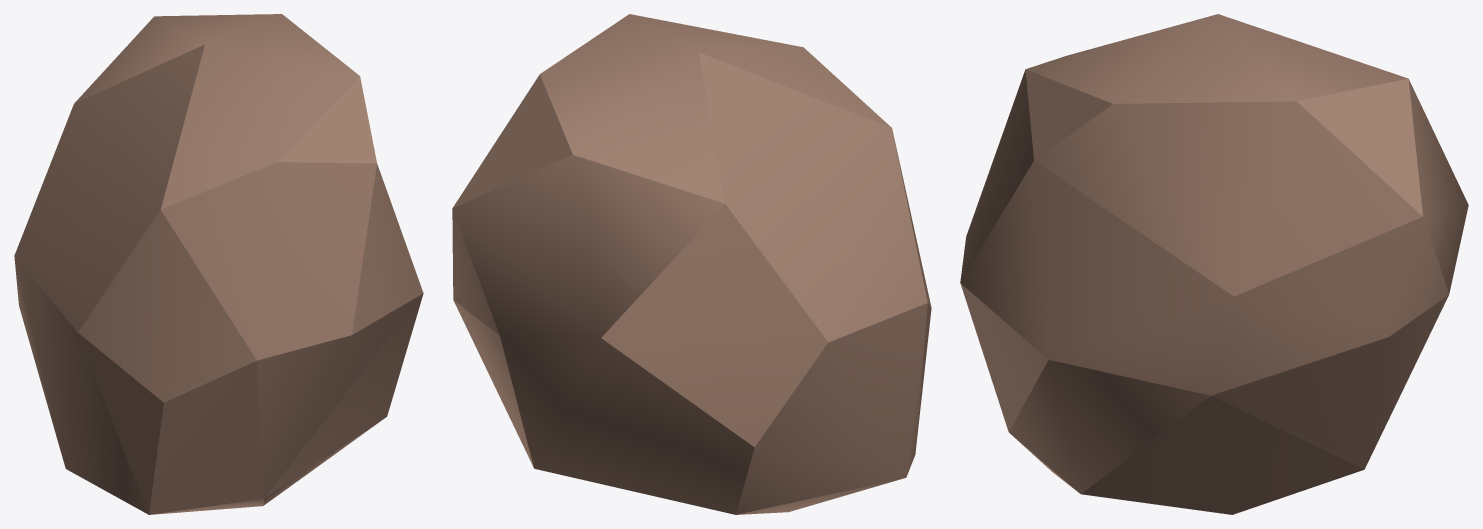
The model's file is a_z1_rock_l.fbx.
3 views of the same model, side by side, from view 1: azimuth 30°, elevation 25°; view 2: azimuth 150°, elevation 25°; view 3: azimuth 270°, elevation 25° (orthographic). The views are drawn at different scales.
Parts seen in each view (by area): view 1: a_z1_rock_l; view 2: a_z1_rock_l; view 3: a_z1_rock_l.
Boxes of the visible parts, <box> form: a_z1_rock_l: <box>14,14,423,514</box>; a_z1_rock_l: <box>452,14,931,514</box>; a_z1_rock_l: <box>960,14,1468,514</box>.
Size of the model in its own units: 236 by 274 by 264.
